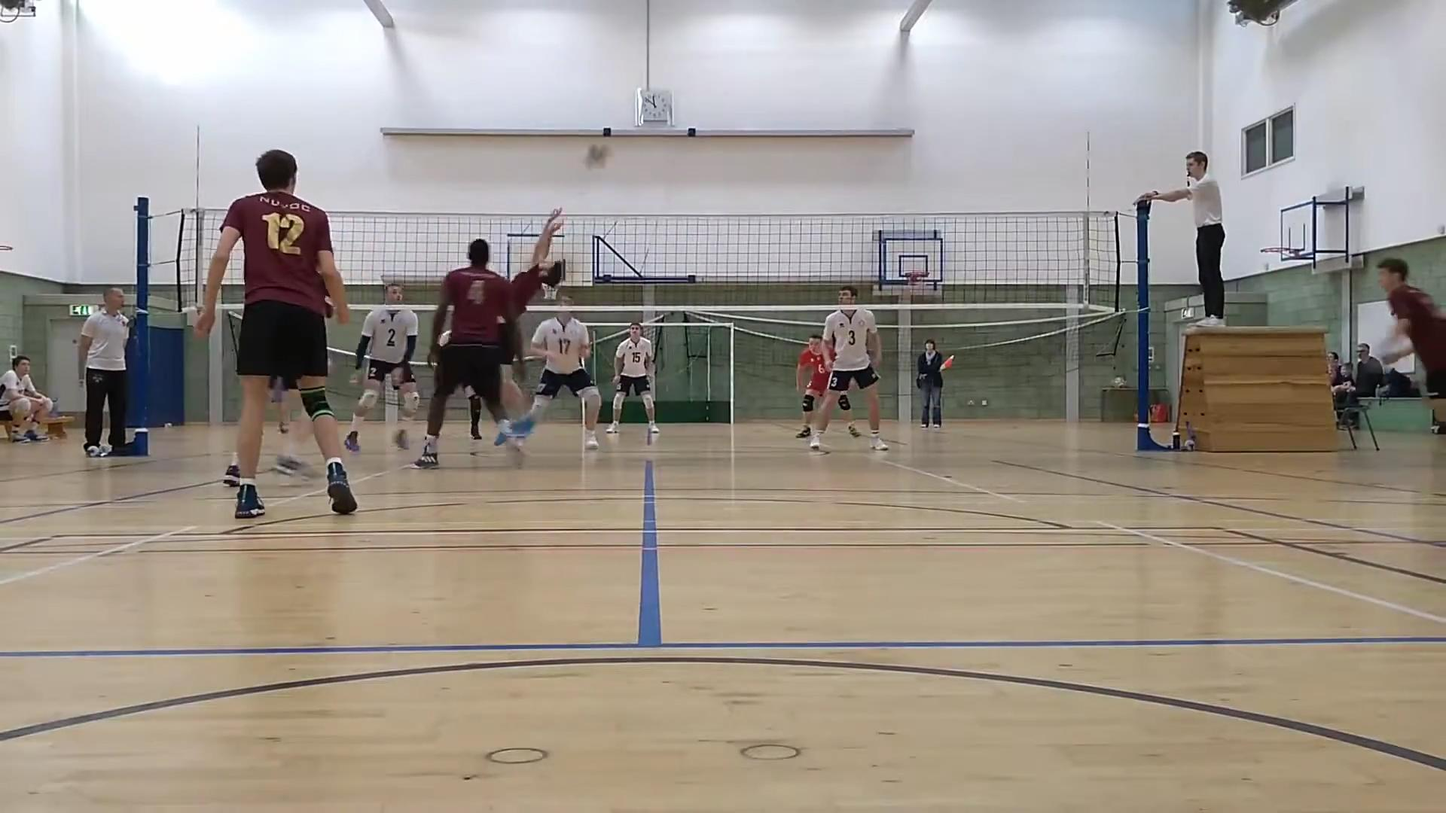Player: (196, 150, 356, 518), (413, 239, 530, 468), (809, 285, 887, 450), (344, 284, 419, 452), (1377, 258, 1445, 433), (529, 296, 600, 449), (606, 322, 658, 434), (269, 376, 314, 478), (795, 334, 828, 438)
Set: (501, 194, 572, 433)
ball: (580, 144, 612, 176)
